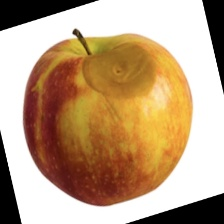apple: (29, 2, 216, 189)
